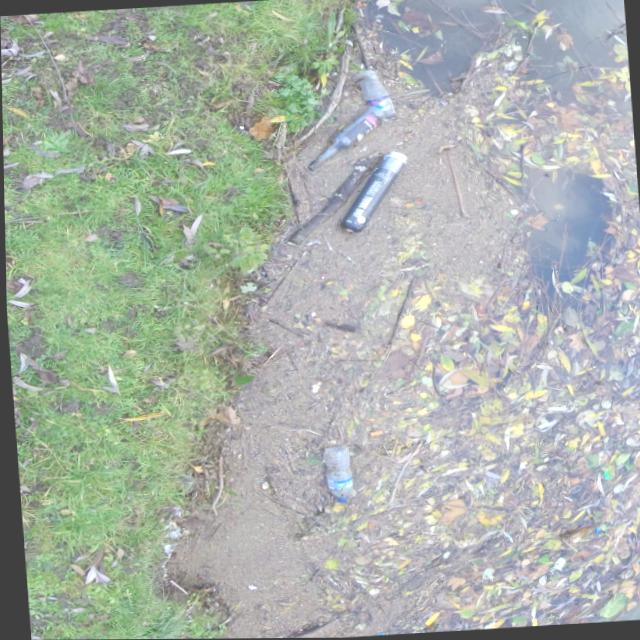Bottle-Glass: (297, 104, 390, 176)
Can-Metal: (329, 146, 416, 243)
Plastic: (346, 65, 400, 128), (312, 442, 355, 507), (269, 626, 395, 638)
